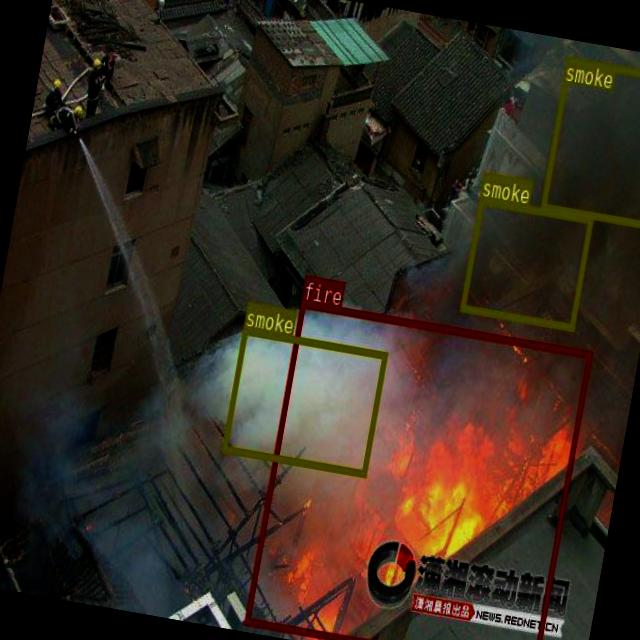fire: (243, 300, 590, 640)
smoke: (221, 326, 387, 475), (458, 195, 592, 328), (539, 56, 640, 227)
